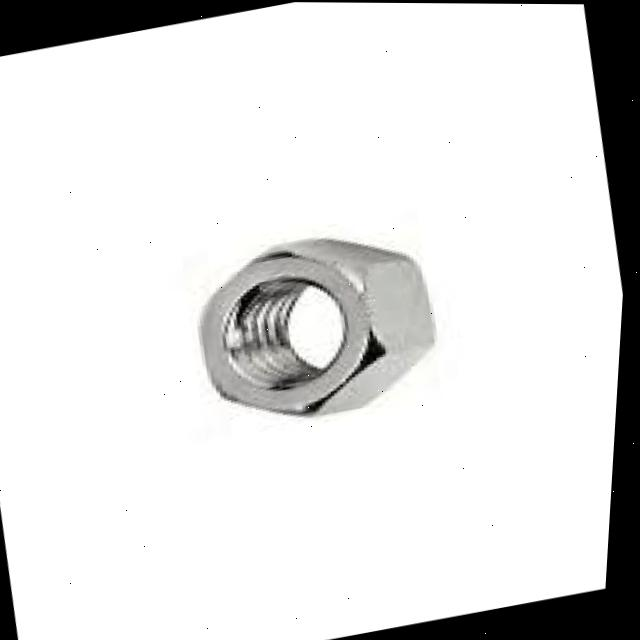Dry: (180, 209, 466, 442)
